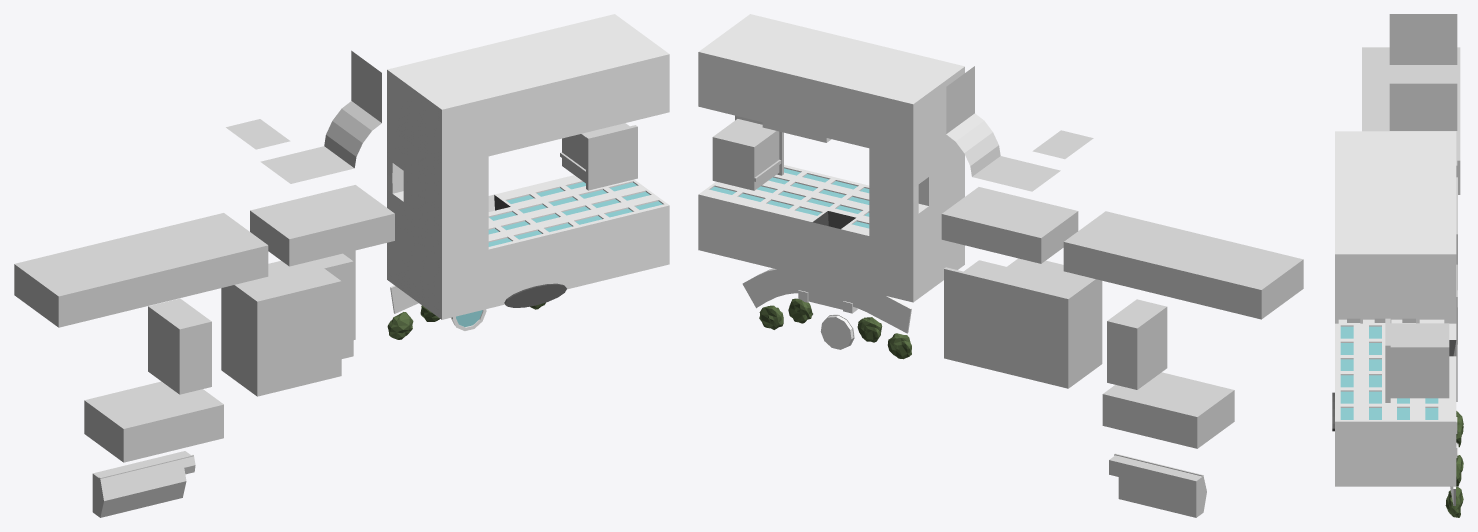
File: campus.glb
3 renders of one model, left to right at view 1: azimuth 30°, elevation 25°; view 2: azimuth 150°, elevation 25°; view 3: azimuth 270°, elevation 25°, orthographic. The views are drawn at different scales.
Visible parts, largest first — view 1: 立方体, 立方体.018, 立方体.017, 立方体.019, 立方体.021, 円柱.003, 立方体.022, 立方体.016; view 2: 立方体, 立方体.017, 立方体.018, 立方体.019, 立方体.021, 円柱.003, 立方体.016, 立方体.022, 円柱; view 3: 立方体, 円柱.003, 立方体.016, 立方体.018, メタボール.003, 立方体.017, メタボール.361, 立方体.021, メタボール.001.
Part boxes in pixels (<box>): 立方体: <box>387,14,669,319</box>; 立方体.018: <box>14,213,268,327</box>; 立方体.017: <box>221,250,355,396</box>; 立方体.019: <box>84,298,223,462</box>; 立方体.021: <box>250,185,394,266</box>; 円柱.003: <box>226,50,381,183</box>; 立方体.022: <box>92,451,195,517</box>; 立方体.016: <box>560,123,637,190</box>; 立方体: <box>698,14,964,333</box>; 立方体.017: <box>944,258,1102,388</box>; 立方体.018: <box>1063,211,1303,319</box>; 立方体.019: <box>1102,299,1234,448</box>; 立方体.021: <box>941,187,1078,263</box>; 円柱.003: <box>946,66,1093,191</box>; 立方体.016: <box>712,115,783,190</box>; 立方体.022: <box>1109,453,1206,517</box>; 円柱: <box>820,314,854,349</box>; 立方体: <box>1332,131,1456,505</box>; 円柱.003: <box>1389,14,1457,165</box>; 立方体.016: <box>1385,318,1449,402</box>; 立方体.018: <box>1362,47,1460,194</box>; メタボール.003: <box>1445,487,1463,517</box>; 立方体.017: <box>1456,264,1457,401</box>; メタボール.361: <box>1456,455,1463,486</box>; 立方体.021: <box>1456,177,1457,264</box>; メタボール.001: <box>1456,416,1463,447</box>.
Bounding box in the file's own units: 8.48 × 5.35 × 1.46.
